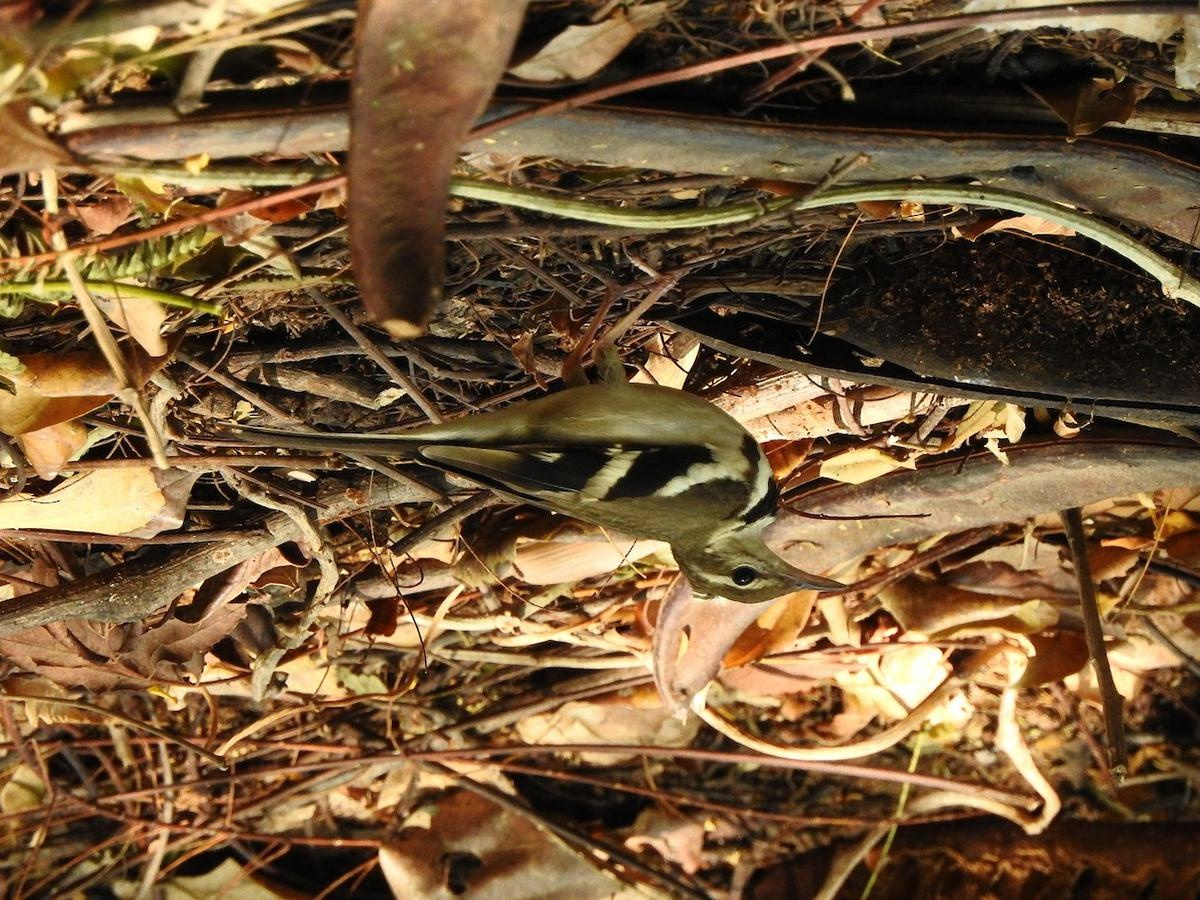wagtail: (336, 342, 836, 614)
